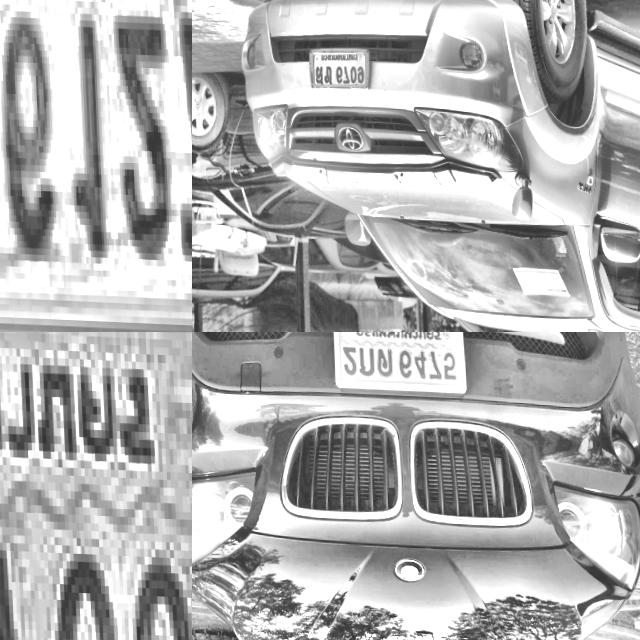license-plate: (0, 0, 192, 332), (0, 332, 192, 640), (328, 332, 465, 395), (304, 46, 369, 87)
